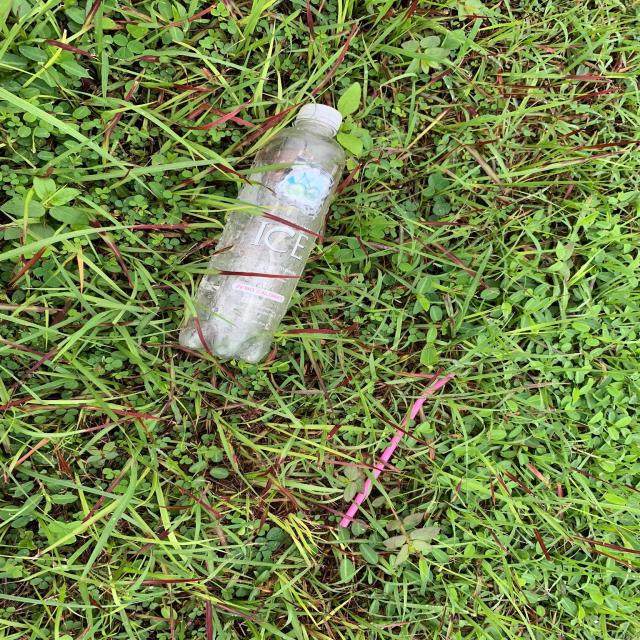litter: (178, 103, 347, 363), (338, 373, 455, 528)
